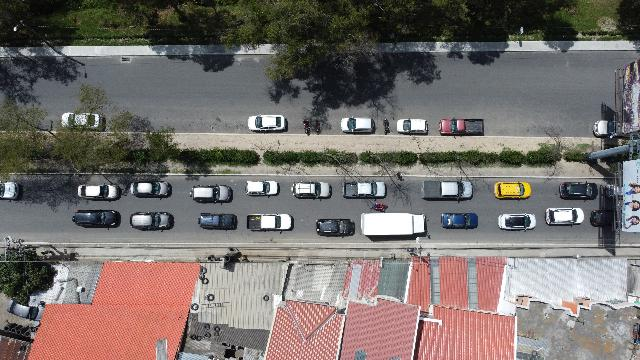Vehiculo: (421, 181, 473, 201), (72, 209, 120, 228), (62, 112, 106, 132), (190, 184, 232, 204), (130, 212, 174, 231), (438, 118, 484, 136), (248, 213, 292, 231), (248, 115, 288, 133), (544, 208, 584, 226), (292, 181, 332, 199), (78, 184, 122, 200), (342, 182, 386, 198), (316, 219, 354, 237), (198, 214, 238, 231), (130, 182, 172, 198), (442, 212, 478, 230), (560, 182, 596, 200), (494, 181, 530, 199), (498, 214, 536, 231), (340, 117, 376, 134), (590, 209, 622, 227), (246, 180, 278, 196), (397, 119, 428, 135), (593, 121, 617, 138), (1, 182, 20, 200), (605, 184, 623, 198)
